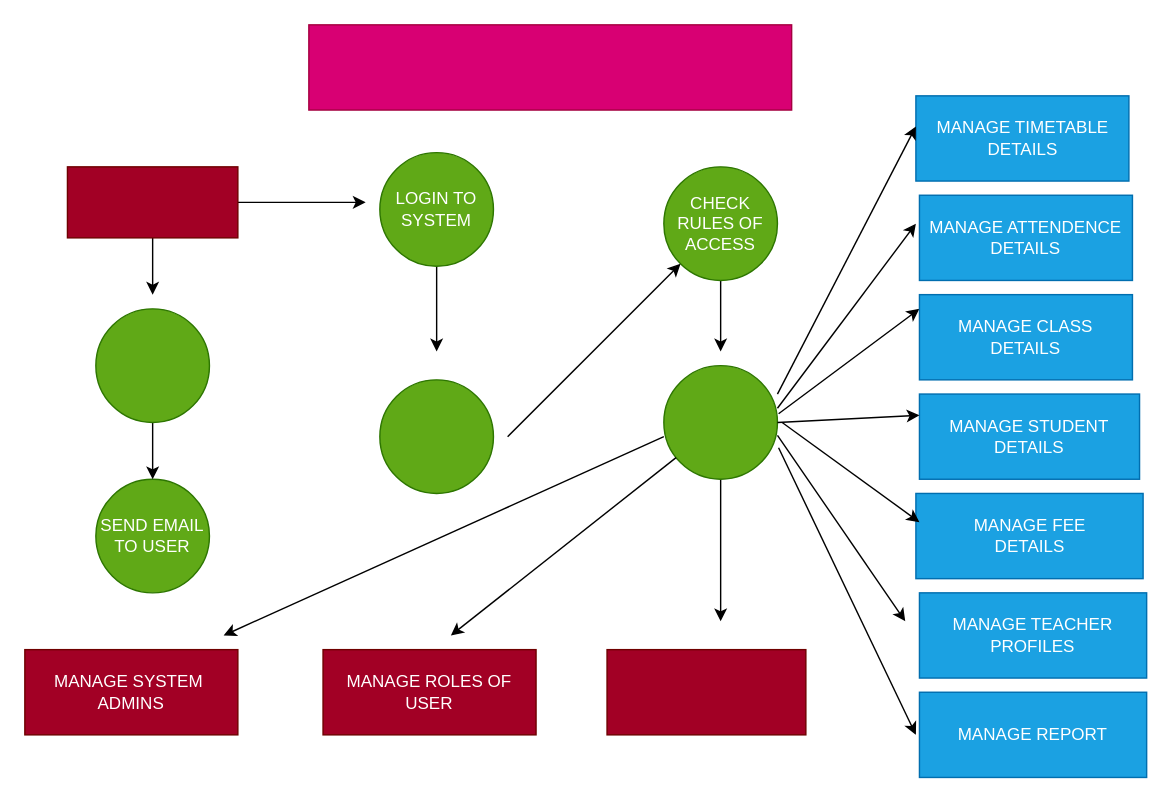
Image size: 1172x802. Some labels were removed from this diagram. The shapes that lost their labels are listed below. From the top down, each one's centre as x and y in pixels, then its label:
At point 549,66: "STUDENT INFORMATION SYSTEM".
At point 152,201: "ADMIN".
At point 151,364: "FORGOT PASSWORD".
At point 435,435: "CHECK CREDENTIAL".
At point 719,421: "MANAGE MODULES".
At point 706,691: "MANAGE USER PERMISSION".
